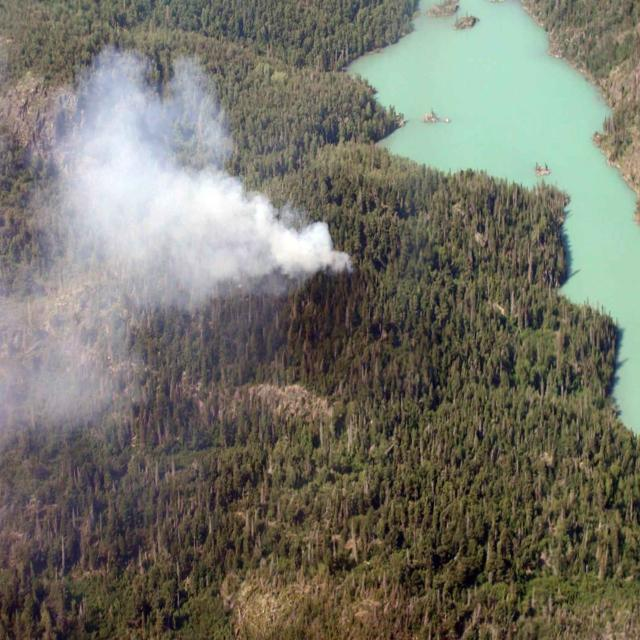Smoke: (48, 106, 260, 321)
